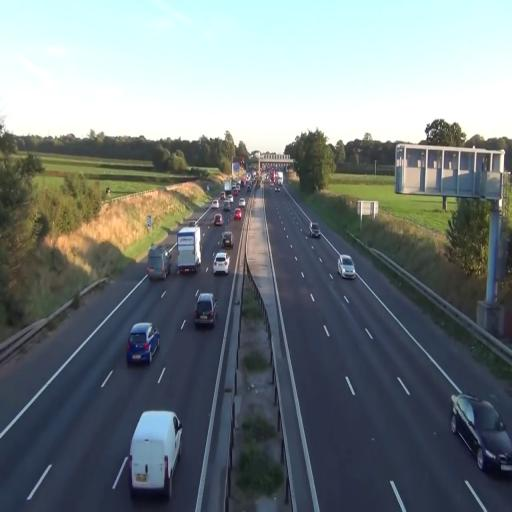vehicle: (450, 393, 512, 477), (130, 410, 182, 496), (126, 322, 159, 366), (176, 224, 202, 275), (176, 225, 201, 276), (194, 291, 217, 330), (147, 246, 169, 280), (338, 254, 356, 278), (213, 251, 229, 275), (220, 230, 234, 250), (233, 205, 244, 221), (310, 222, 320, 238)
